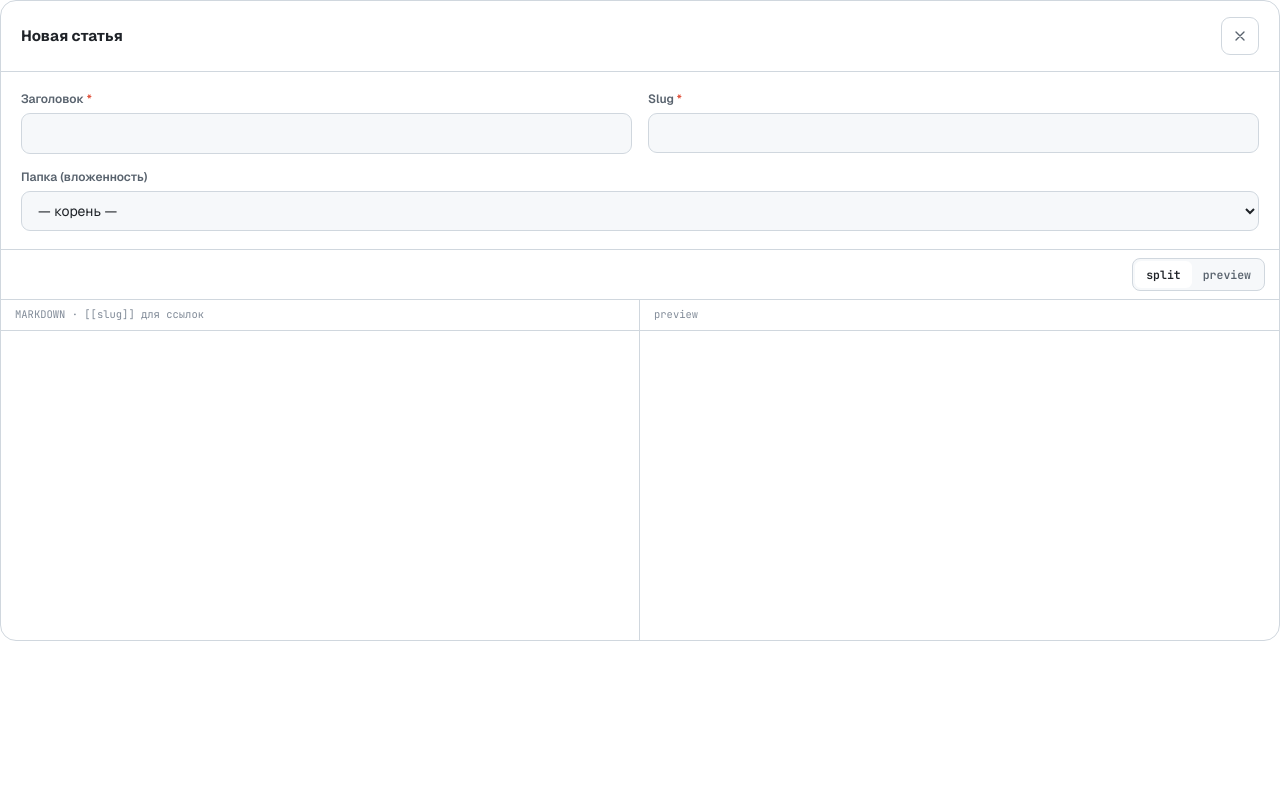
Scenario: KbArticleEditor › бар сохранения скрыт, пока форма не изменена, и появляется после правки
expect the button "Сохранить" is not shown: met
In the field labelled "Заголовок": (326, 134) [21, 113, 632, 154], type "Черновик"
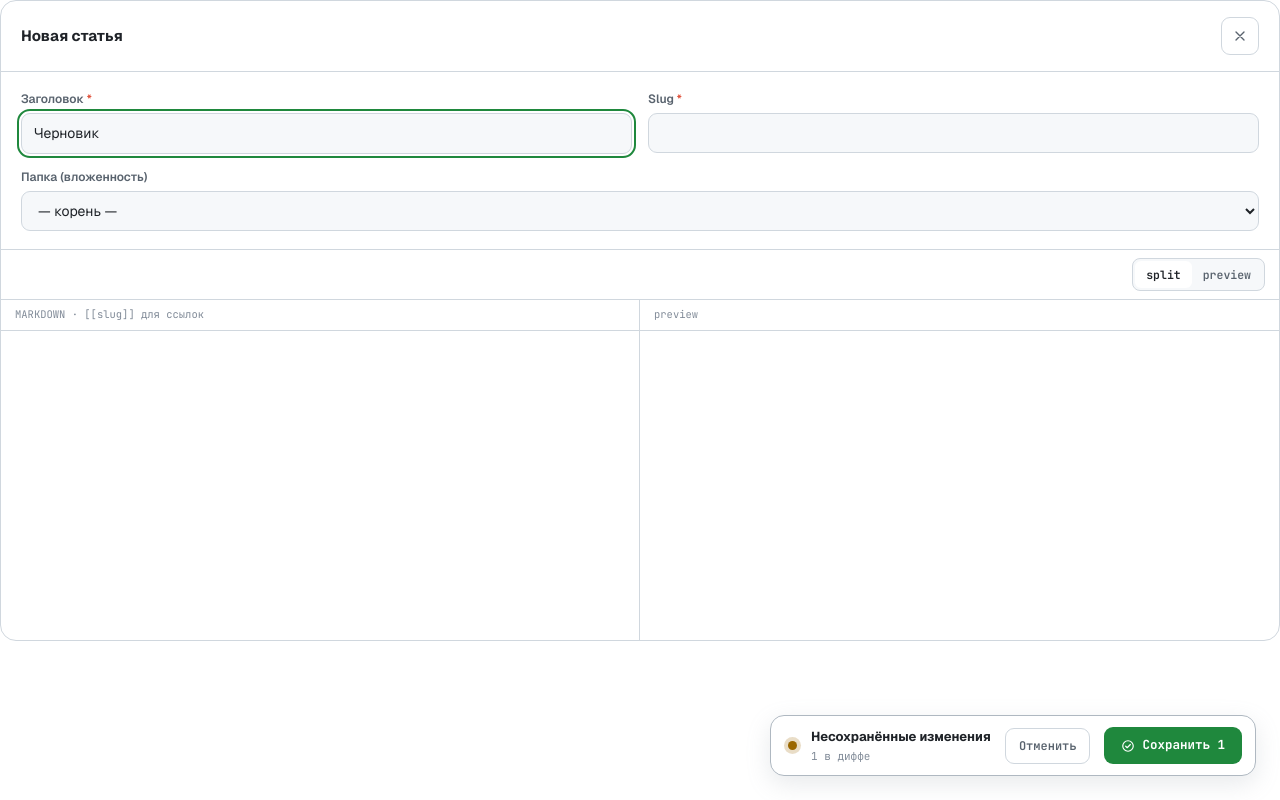
expect the button "Сохранить 1" is enabled: met, box [1104, 727, 1242, 764]
